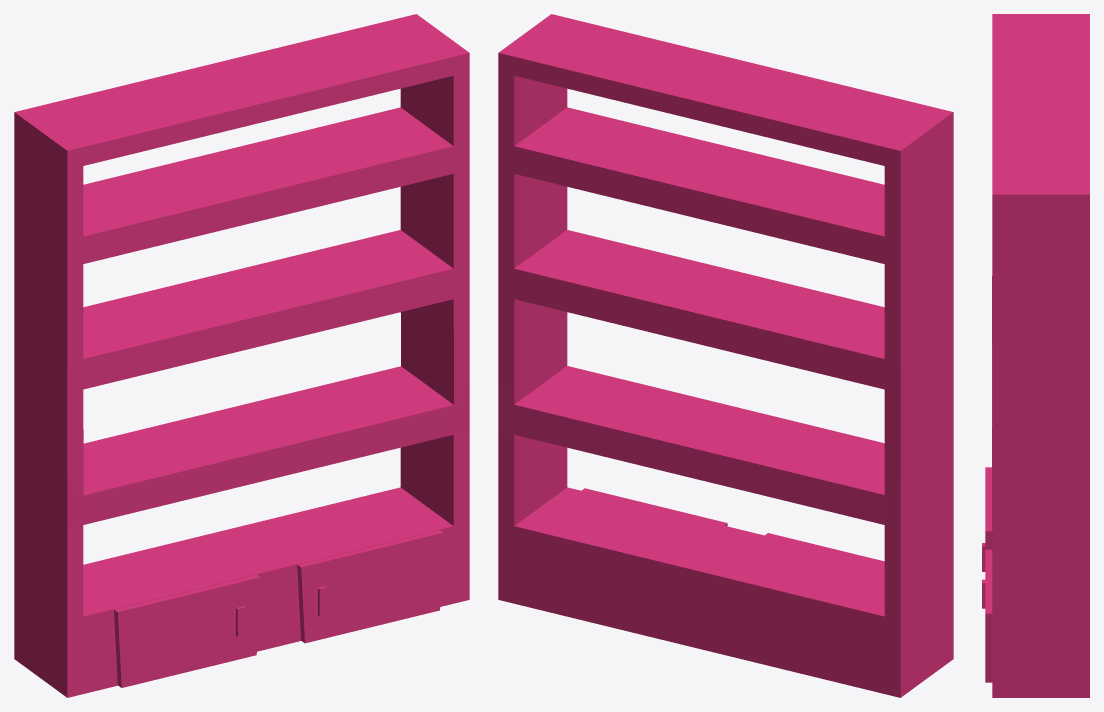
The model's file is Shelf.glb.
3 renders of one model, left to right at view 1: azimuth 30°, elevation 25°; view 2: azimuth 150°, elevation 25°; view 3: azimuth 270°, elevation 25°, orthographic. The views are drawn at different scales.
Parts seen in each view (by area): view 1: Cube; view 2: Cube; view 3: Cube.
Boxes of the visible parts, x1=… form: Cube: x1=14, y1=14, x2=469, y2=697; Cube: x1=498, y1=14, x2=953, y2=697; Cube: x1=982, y1=14, x2=1089, y2=697.
Size of the model in its own units: 1.6 by 2.08 by 0.4047.
